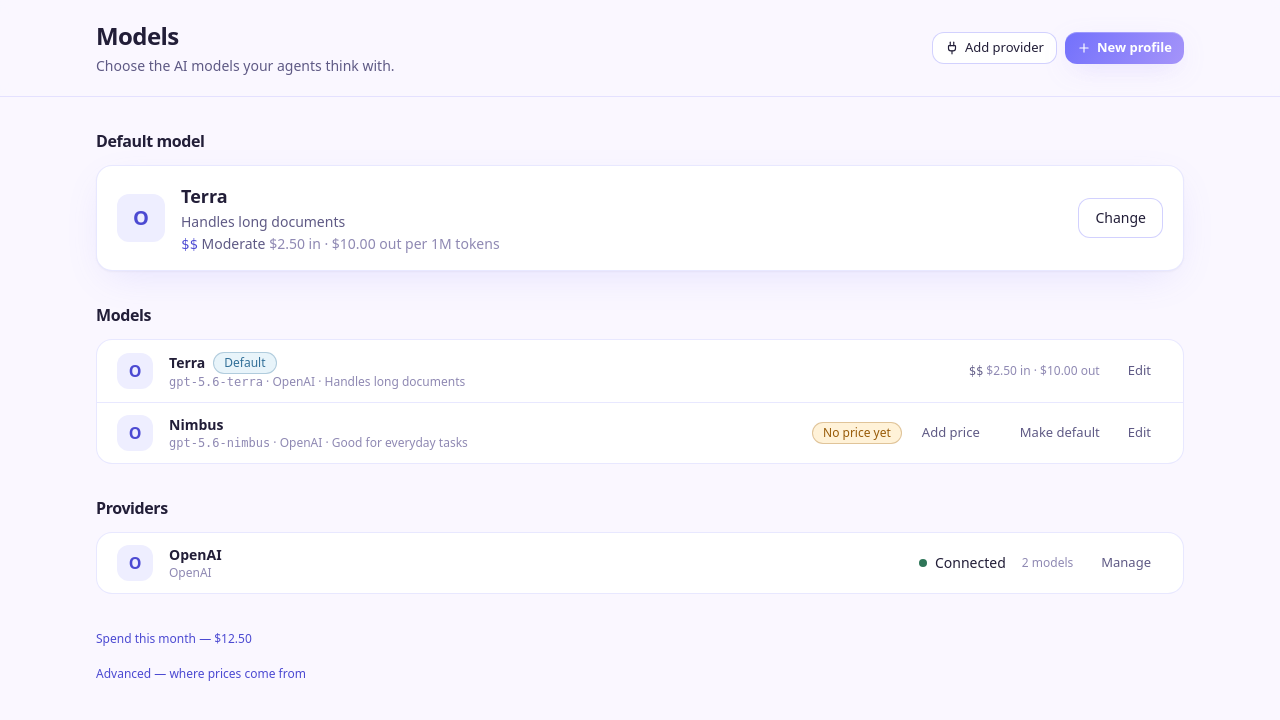
Test: ModelsPage › keeps spend folded behind a label carrying the month total
The width and height of the screenshot is (1280, 720).
Expected: the heading "Default model" is shown, [96,130,204,152]
Click the button "Spend this month — $12.50": (174, 639) [96,631,252,647]
(page scrolled)
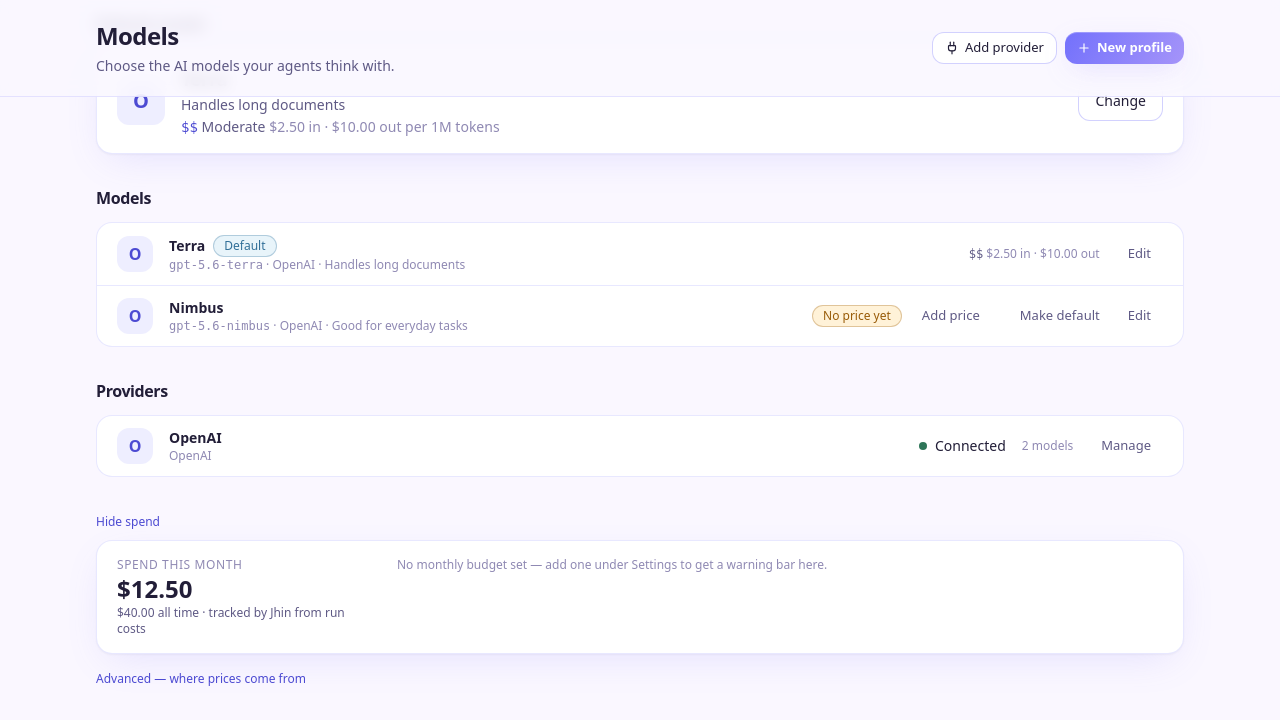
Result: the element with test id "spend-tile" is shown at [96,540,1184,654]
